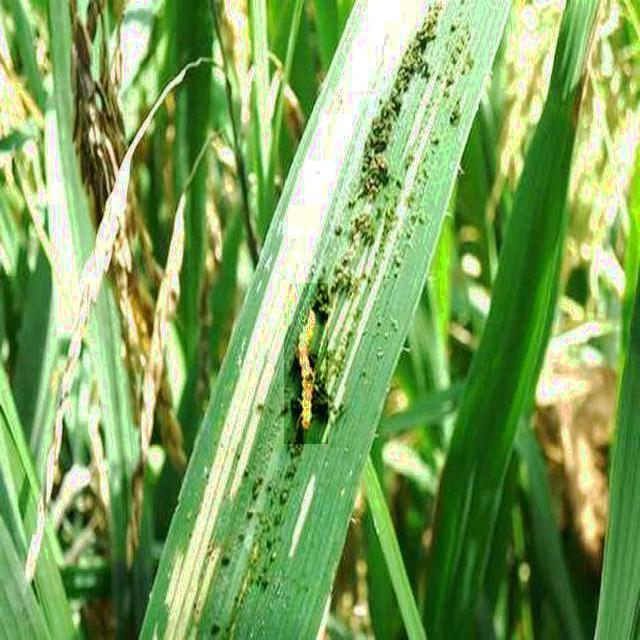leaf-folder: (285, 283, 329, 444)
